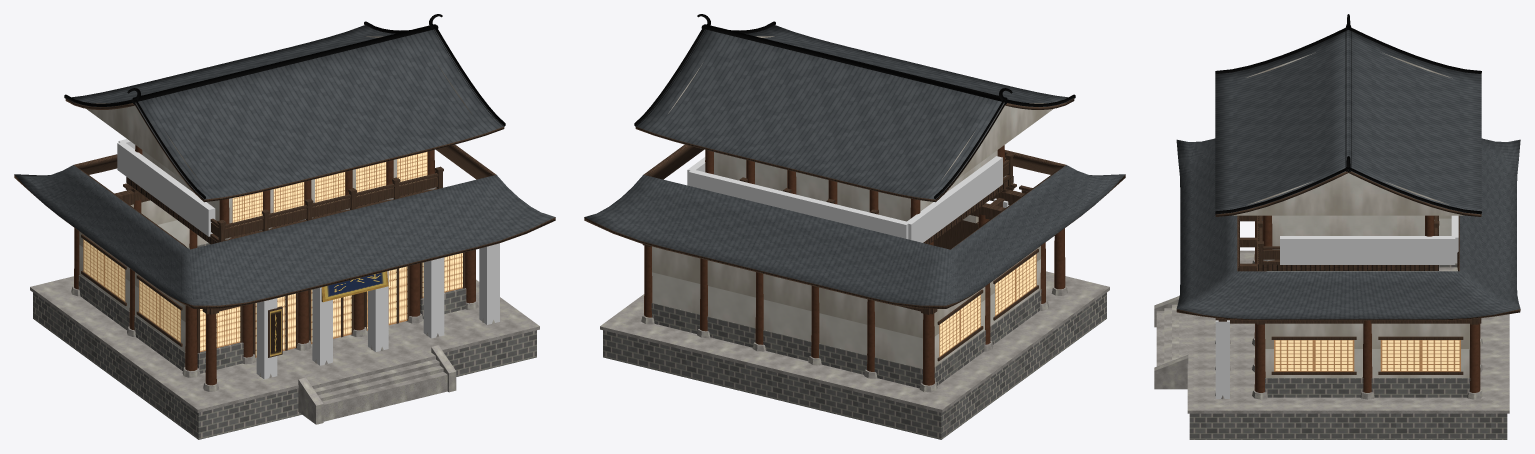
Rendered from pharmacy.glb.
3 renders of one model, left to right at view 1: azimuth 30°, elevation 25°; view 2: azimuth 150°, elevation 25°; view 3: azimuth 270°, elevation 25°, orthographic. The views are drawn at different scales.
Parts seen in each view (by area): view 1: PharmacyRoof, PharmacyLowSkirt, PharmacyPodiumCap, PharmacyPodiumBase, PharmacyLattice, PharmacyStairsfront, PharmacyColumns, PharmacyBalconyBalustrade, PharmacyUpperLattice, PharmacyDado, PharmacyRoofRidge, PharmacyBalconyRail-convcolonly.003 (+15 smaller); view 2: PharmacyRoof, PharmacyLowSkirt, PharmacyWalls, PharmacyPodiumBase, PharmacyPodiumCap, PharmacyDado, PharmacyColumns, PharmacyUpperWalls, PharmacyBalconyRail-convcolonly.002, PharmacyRoofRidge, PharmacyBalconyRail-convcolonly.003, PharmacyLattice (+6 smaller); view 3: PharmacyRoof, PharmacyLowSkirt, PharmacyPodiumCap, PharmacyPodiumBase, PharmacyLattice, PharmacyBalconyRail-convcolonly.001, PharmacyGables, PharmacyWalls, PharmacyDado, PharmacyUpperWalls, PharmacyRoofRidge, PharmacyColumns (+9 smaller).
Part boxes in pixels (x1=…): PharmacyRoof: x1=65, y1=25, x2=504, y2=202; PharmacyLowSkirt: x1=14, y1=144, x2=555, y2=308; PharmacyPodiumCap: x1=30, y1=276, x2=539, y2=412; PharmacyPodiumBase: x1=33, y1=292, x2=536, y2=439; PharmacyLattice: x1=83, y1=239, x2=462, y2=357; PharmacyStairsfront: x1=309, y1=353, x2=447, y2=421; PharmacyColumns: x1=74, y1=199, x2=475, y2=385; PharmacyBalconyBalustrade: x1=210, y1=166, x2=443, y2=242; PharmacyUpperLattice: x1=232, y1=151, x2=427, y2=222; PharmacyDado: x1=78, y1=243, x2=466, y2=373; PharmacyRoofRidge: x1=64, y1=14, x2=505, y2=199; PharmacyBalconyRail-convcolonly.003: x1=117, y1=141, x2=215, y2=236; PharmacyRoof: x1=635, y1=25, x2=1074, y2=202; PharmacyLowSkirt: x1=584, y1=144, x2=1125, y2=308; PharmacyWalls: x1=652, y1=215, x2=1040, y2=368; PharmacyPodiumBase: x1=603, y1=292, x2=1106, y2=439; PharmacyPodiumCap: x1=600, y1=271, x2=1109, y2=412; PharmacyDado: x1=651, y1=289, x2=1041, y2=388; PharmacyColumns: x1=644, y1=214, x2=1065, y2=385; PharmacyUpperWalls: x1=714, y1=150, x2=997, y2=221; PharmacyBalconyRail-convcolonly.002: x1=688, y1=170, x2=909, y2=239; PharmacyRoofRidge: x1=634, y1=14, x2=1075, y2=199; PharmacyBalconyRail-convcolonly.003: x1=906, y1=156, x2=1002, y2=242; PharmacyLattice: x1=939, y1=254, x2=1036, y2=356; PharmacyRoof: x1=1215, y1=30, x2=1481, y2=216; PharmacyLowSkirt: x1=1176, y1=138, x2=1520, y2=320; PharmacyPodiumCap: x1=1187, y1=250, x2=1509, y2=413; PharmacyPodiumBase: x1=1189, y1=413, x2=1507, y2=439; PharmacyLattice: x1=1274, y1=340, x2=1460, y2=371; PharmacyBalconyRail-convcolonly.001: x1=1280, y1=236, x2=1455, y2=264; PharmacyGables: x1=1232, y1=52, x2=1464, y2=215; PharmacyWalls: x1=1265, y1=215, x2=1469, y2=377; PharmacyDado: x1=1265, y1=263, x2=1470, y2=397; PharmacyUpperWalls: x1=1272, y1=215, x2=1424, y2=249; PharmacyRoofRidge: x1=1215, y1=14, x2=1481, y2=214; PharmacyColumns: x1=1254, y1=216, x2=1480, y2=392.
Size of what is drawn, in the model's own units: 16.91 by 12.79 by 15.45.
Materials: 13 (13 with a texture image).
